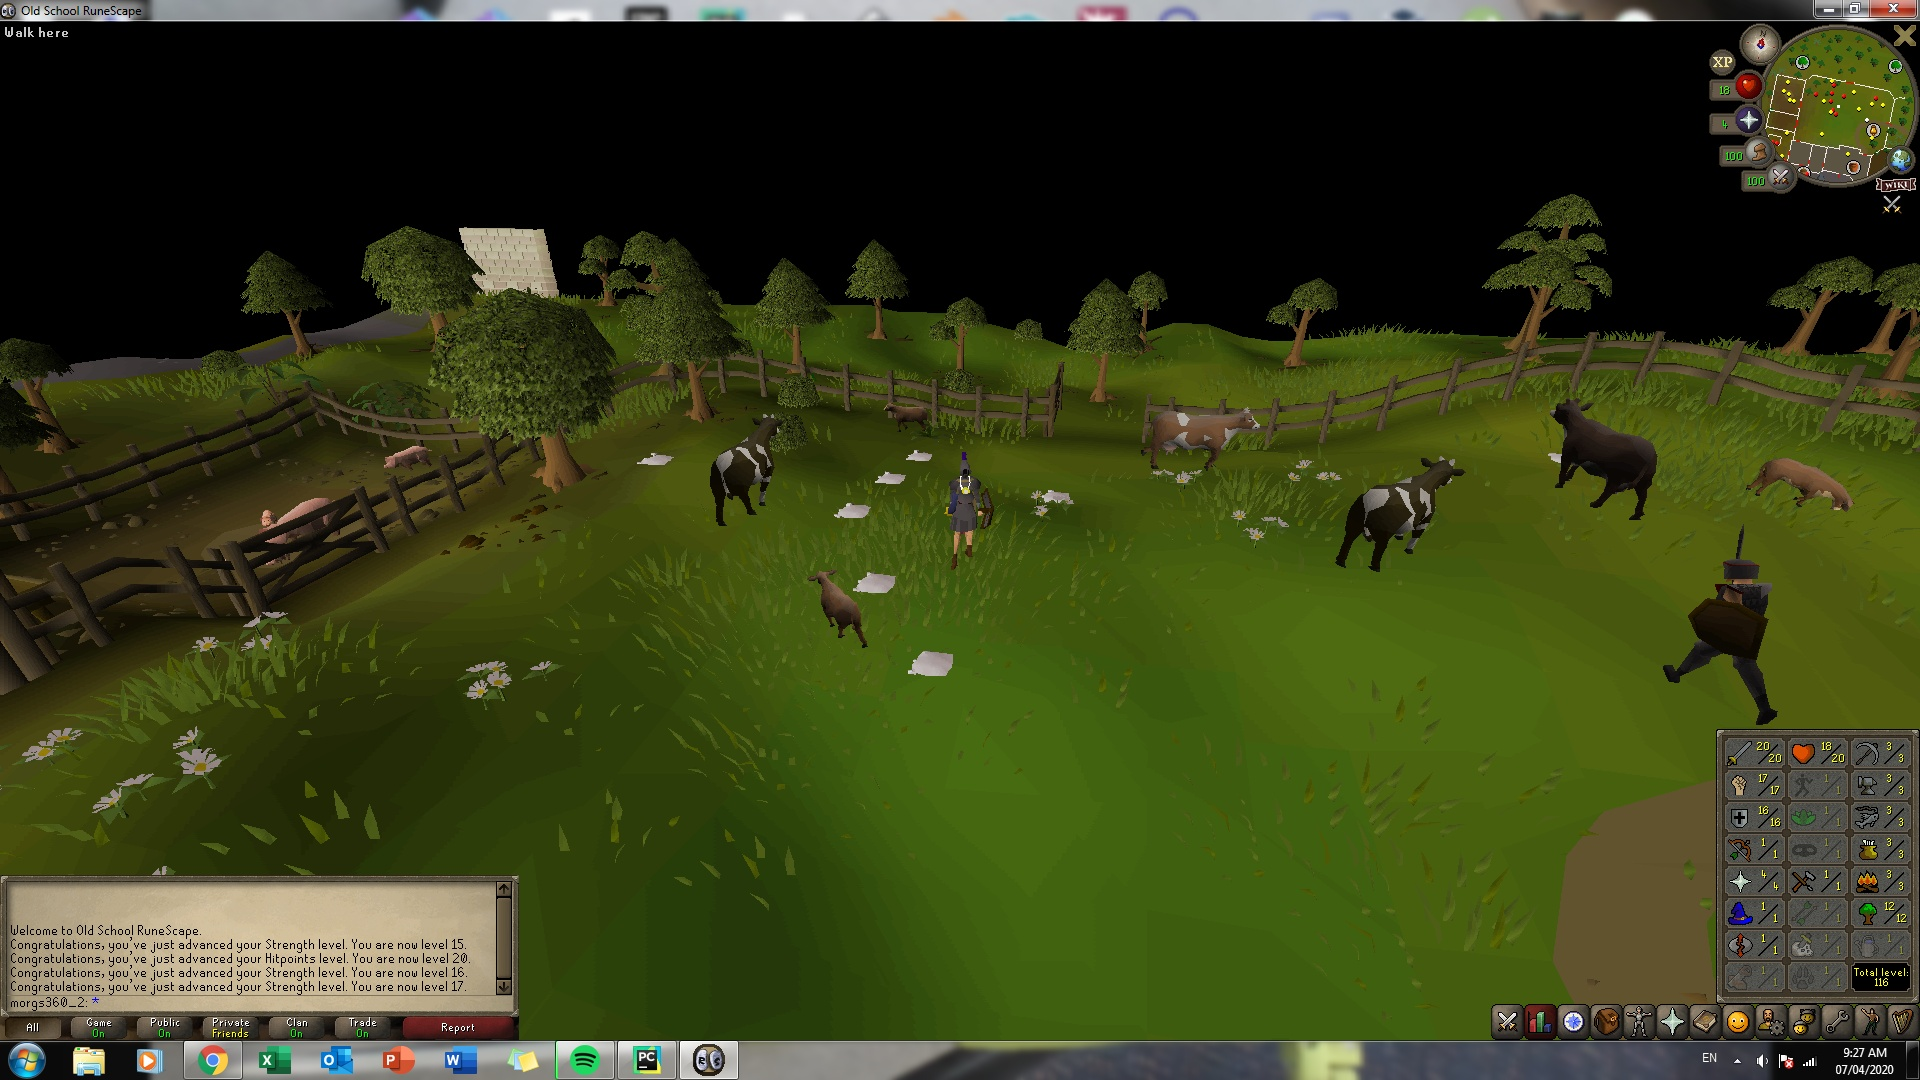cow: (1334, 453, 1467, 573), (1544, 397, 1660, 525), (703, 411, 788, 529), (1143, 408, 1261, 471), (1743, 459, 1852, 515), (809, 568, 868, 647), (885, 401, 931, 436)
player: (940, 459, 986, 575)
